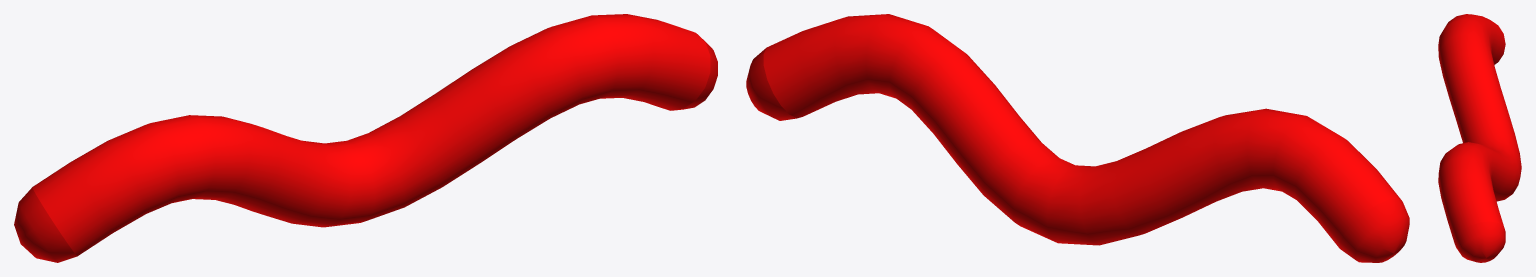
Rendered from Mouth4.glb.
3 views of the same model, side by side, from view 1: azimuth 30°, elevation 25°; view 2: azimuth 150°, elevation 25°; view 3: azimuth 270°, elevation 25° (orthographic). The views are drawn at different scales.
Visible parts, largest first — view 1: Mouth4; view 2: Mouth4; view 3: Mouth4.
Part boxes in pixels (x1,y1,x2,y2): Mouth4: [14, 14, 717, 262]; Mouth4: [746, 14, 1409, 262]; Mouth4: [1438, 14, 1521, 262].
Bounding box in the file's own units: 100 × 22.89 × 16.5.
